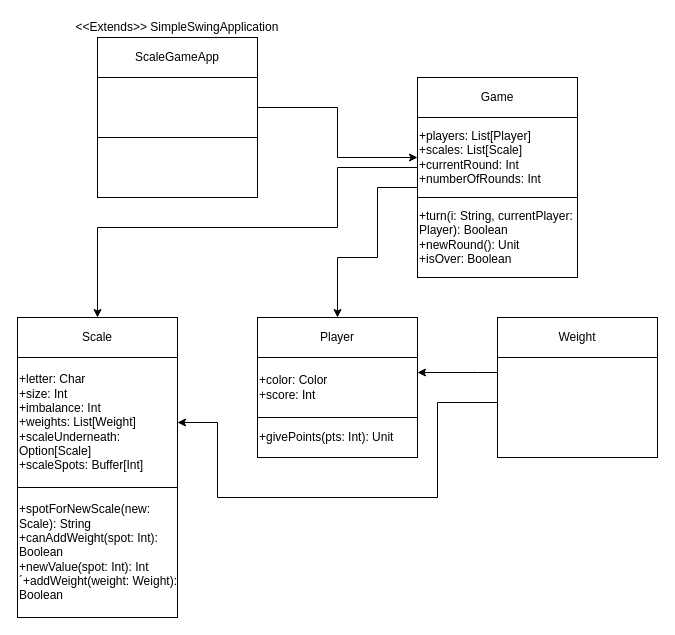
The diagram is 675 pixels wide and 635 high, and some of its shapes have lost their labels. Each missing label, with the centre of its shape:
"+game: Game +index: Int" belongs at (x=177, y=107).
"+onTop: Int +owner: Player +spot: Int +spotAsString: String +value: Int" belongs at (x=577, y=407).
"+top: MainFrame +first: Frame" belongs at (x=177, y=167).
